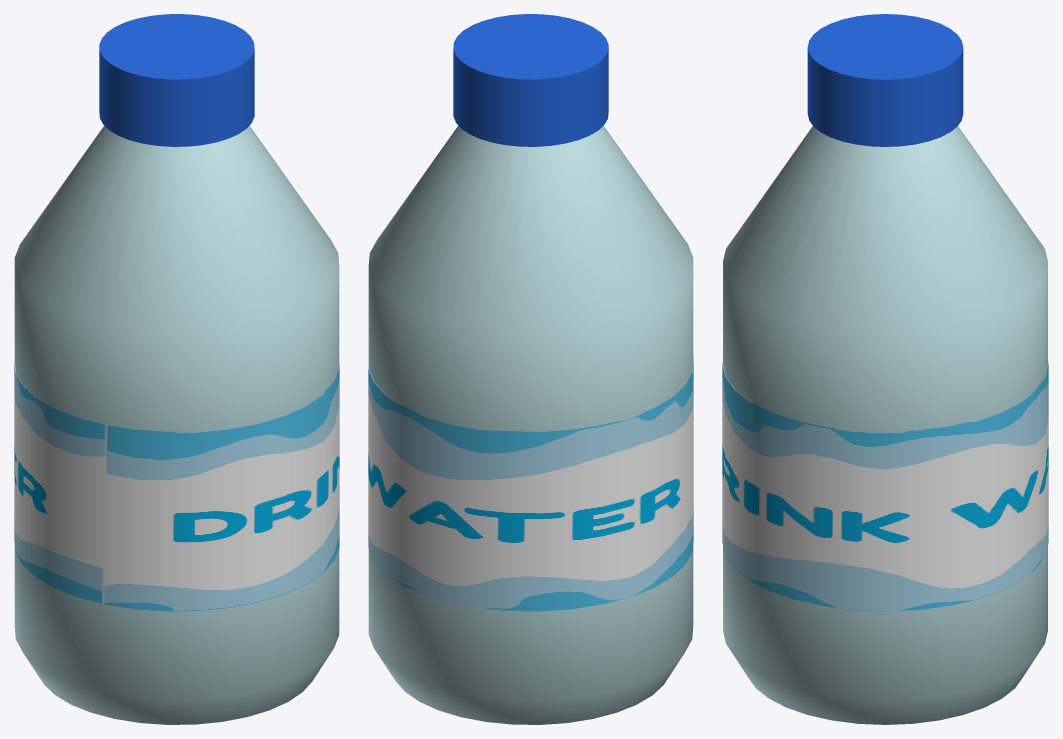
The model's file is bottle.fbx.
3 views of the same model, side by side, from view 1: azimuth 30°, elevation 25°; view 2: azimuth 150°, elevation 25°; view 3: azimuth 270°, elevation 25° (orthographic).
Visible parts, largest first — view 1: Bottle; view 2: Bottle; view 3: Bottle.
Part boxes in pixels (box(x1,y1,x2,y2)): Bottle: box(14, 14, 339, 724); Bottle: box(368, 14, 693, 724); Bottle: box(722, 14, 1048, 724).
Size of the model in its own units: 201 by 420 by 201.
